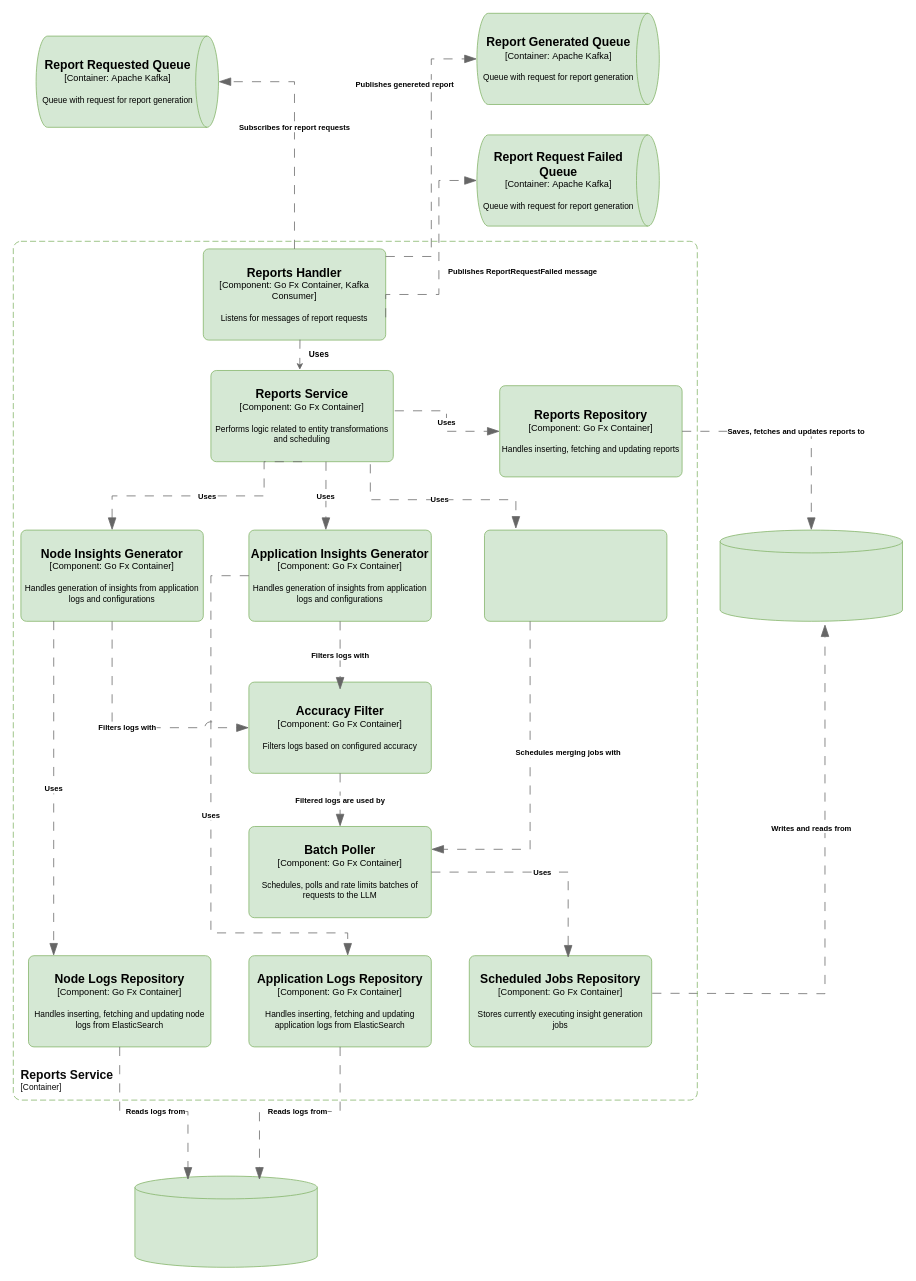
Image size: 916x1281. Some labels were removed from this diagram. Here are the shapes that lost their labels. From the top down, the centre of each, then its label:
At [575,575]: "Incident Merger [Component: Go Fx Container] Removes duplicated incidents".
At [810,575]: "Reports Database [Container: MongoDB] Used to store reports".
At [225,1221]: "Logs Storage [Container: Elasticsearch] Used to store application and node logs".
